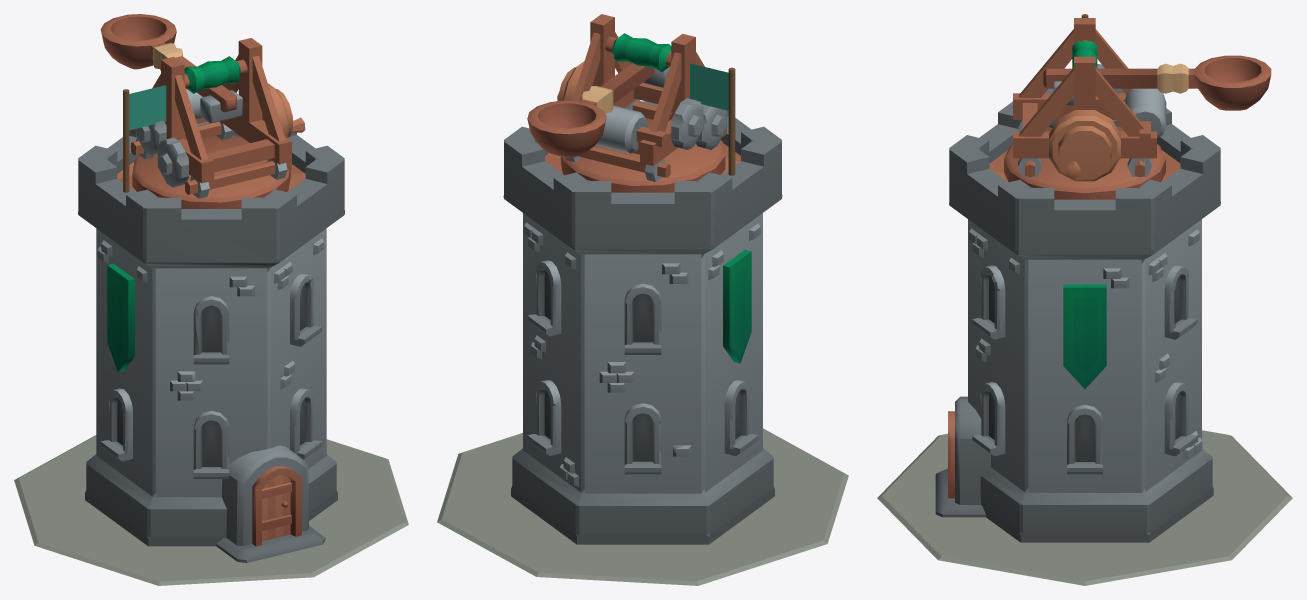
The model's file is tower-teal.glb.
The picture shows the model from 3 angles, left to right: view 1: azimuth 30°, elevation 25°; view 2: azimuth 150°, elevation 25°; view 3: azimuth 270°, elevation 25°; orthographic projection. The views are drawn at different scales.
Visible parts, largest first — view 1: building_tower_catapult_green, worn-foundation, catapult_turret_green, catapult_arm_green, team-standard, standard-pole; view 2: building_tower_catapult_green, worn-foundation, catapult_turret_green, catapult_arm_green, team-standard, standard-pole; view 3: building_tower_catapult_green, worn-foundation, catapult_turret_green, catapult_arm_green.
Boxes of the visible parts, x1=… form: building_tower_catapult_green: x1=78, y1=120, x2=344, y2=562; worn-foundation: x1=14, y1=435, x2=408, y2=585; catapult_turret_green: x1=131, y1=38, x2=305, y2=208; catapult_arm_green: x1=100, y1=14, x2=242, y2=123; team-standard: x1=129, y1=85, x2=166, y2=130; standard-pole: x1=123, y1=89, x2=129, y2=192; building_tower_catapult_green: x1=503, y1=101, x2=782, y2=544; worn-foundation: x1=437, y1=428, x2=848, y2=585; catapult_turret_green: x1=557, y1=14, x2=726, y2=192; catapult_arm_green: x1=527, y1=63, x2=669, y2=158; team-standard: x1=690, y1=63, x2=728, y2=110; standard-pole: x1=728, y1=67, x2=735, y2=175; building_tower_catapult_green: x1=935, y1=101, x2=1220, y2=542; worn-foundation: x1=877, y1=430, x2=1292, y2=585; catapult_turret_green: x1=1004, y1=18, x2=1166, y2=199; catapult_arm_green: x1=1043, y1=55, x2=1271, y2=110.
Size of the model in its own units: 4.36 by 5.3 by 4.36.
Materials: 7 (4 with a texture image).
